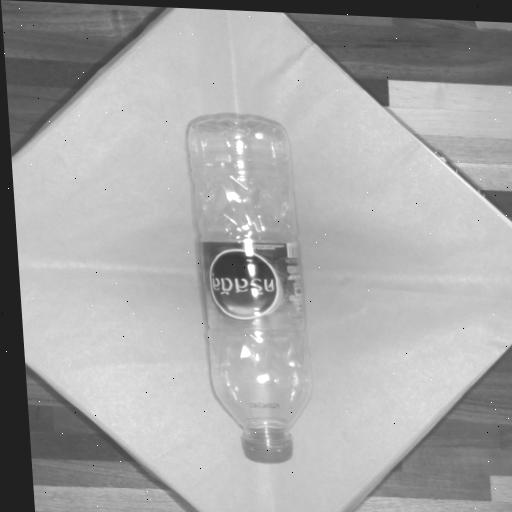bottle: (186, 116, 311, 464)
